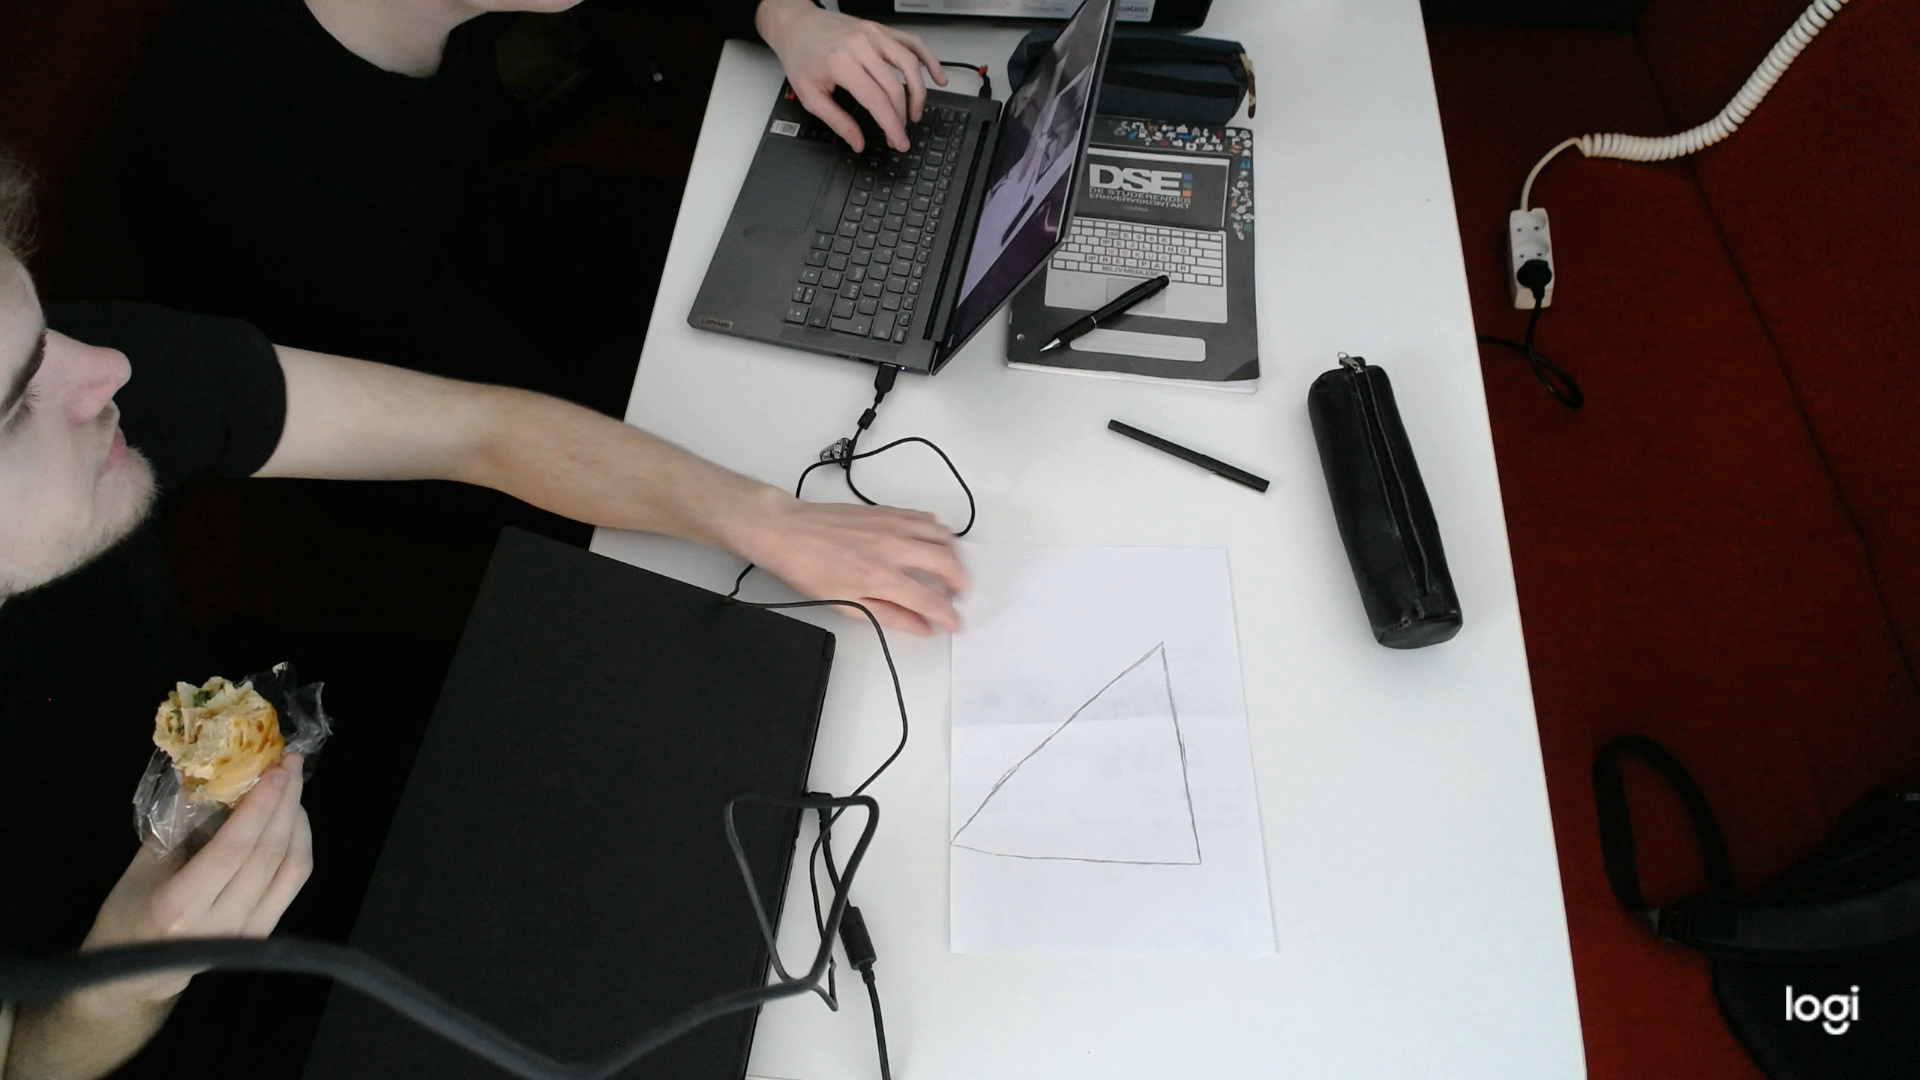Triangle: (947, 640, 1205, 872)
